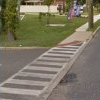crosswalk: (0, 46, 80, 94)
